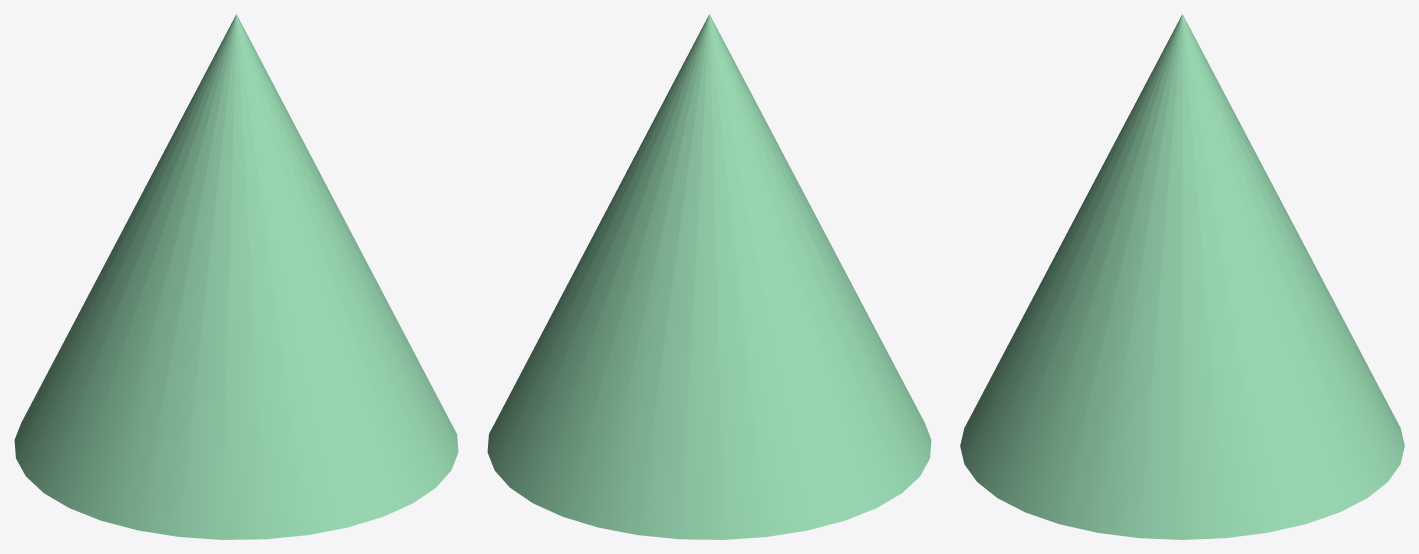
3 views of the same model, side by side, from view 1: azimuth 30°, elevation 25°; view 2: azimuth 150°, elevation 25°; view 3: azimuth 270°, elevation 25° (orthographic).
Parts seen in each view (by area): view 1: cone; view 2: cone; view 3: cone.
Boxes of the visible parts, x1,y1,x2,y2 form: cone: (14,14,458,539); cone: (487,14,931,539); cone: (960,14,1404,539).
Bounding box in the file's own units: 0.84 × 0.9 × 0.84.
